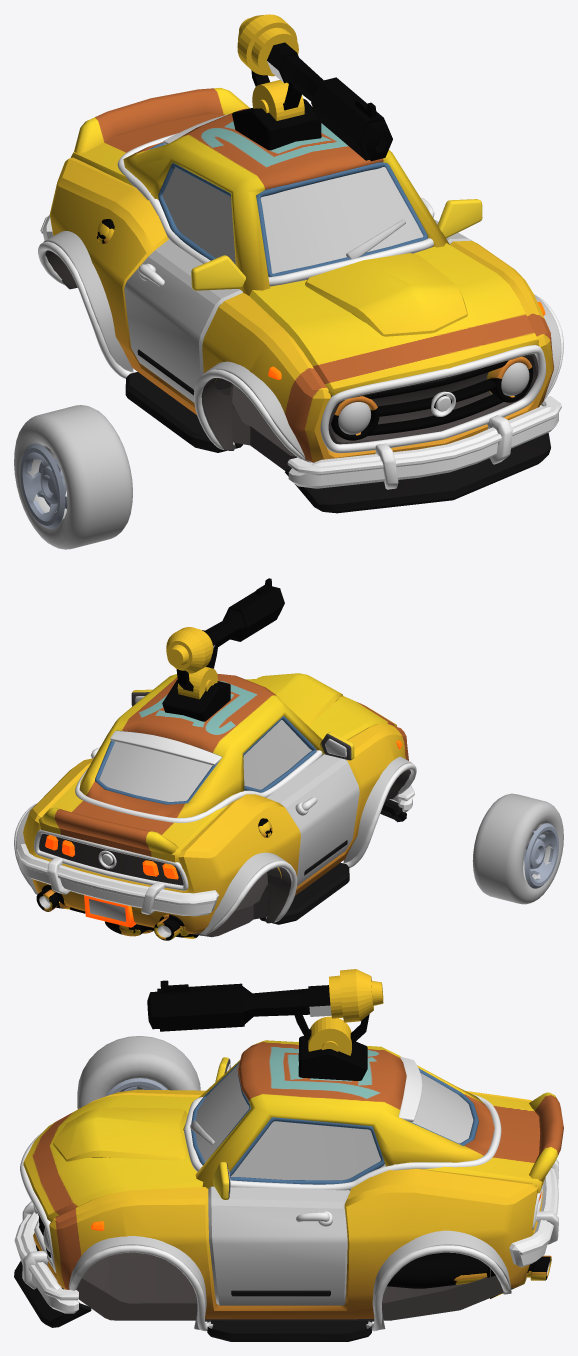
File: yellowCar.fbx
The picture shows the model from 3 angles, top to bottom: view 1: azimuth 30°, elevation 25°; view 2: azimuth 150°, elevation 25°; view 3: azimuth 270°, elevation 25°; orthographic projection. The views are drawn at different scales.
Parts seen in each view (by area): view 1: carBody, wheel; view 2: carBody, wheel; view 3: carBody, wheel.
Part boxes in pixels (x1,y1,x2,y2): carBody: (38, 14, 563, 513); wheel: (14, 405, 132, 549); carBody: (14, 578, 416, 940); wheel: (472, 793, 563, 904); carBody: (14, 969, 563, 1341); wheel: (77, 1036, 200, 1109).
Size of the model in its own units: 3.84 by 2.61 by 4.04.
